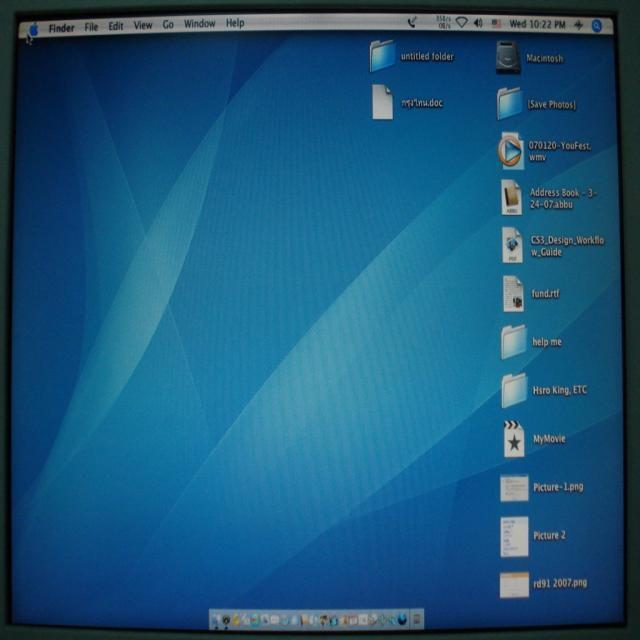others: (14, 6, 640, 624)
